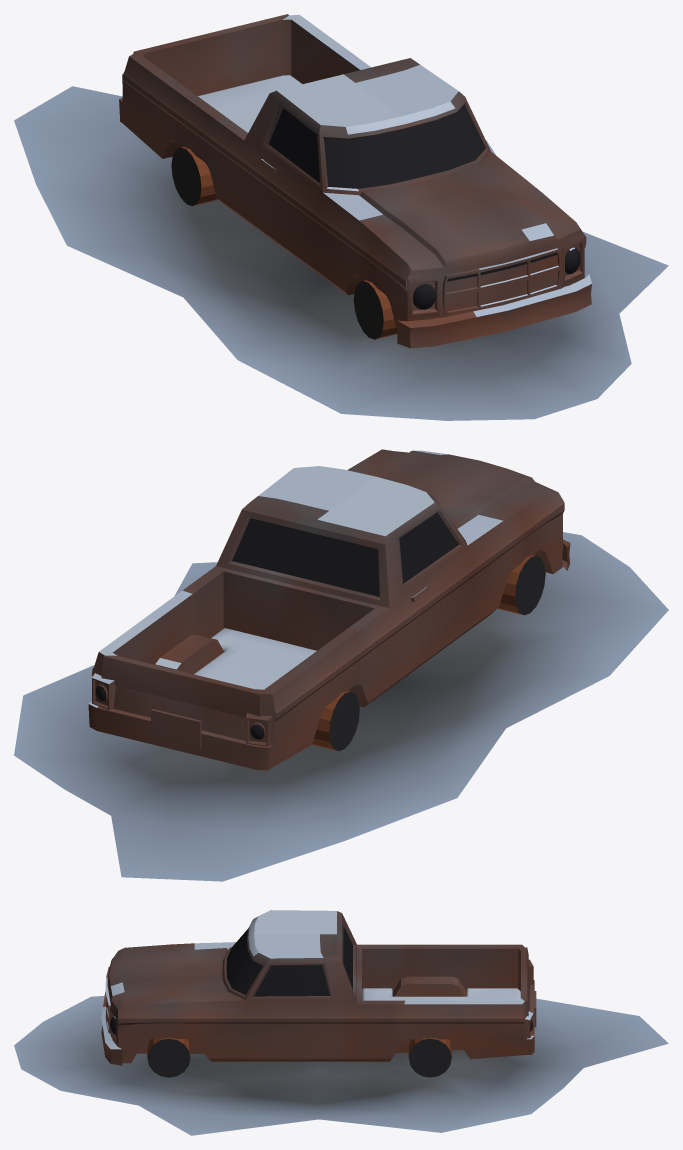
Rendered from pickup_burnt.glb.
The picture shows the model from 3 angles, top to bottom: view 1: azimuth 30°, elevation 25°; view 2: azimuth 150°, elevation 25°; view 3: azimuth 270°, elevation 25°; orthographic projection. The views are drawn at different scales.
Parts seen in each view (by area): view 1: Body; view 2: Body; view 3: Body.
Part boxes in pixels (left/top/right/bottom): Body: left=14, top=14, right=668, bottom=420; Body: left=14, top=449, right=668, bottom=881; Body: left=14, top=910, right=668, bottom=1135.
Bounding box in the file's own units: 4.6 × 1.75 × 8.44.
